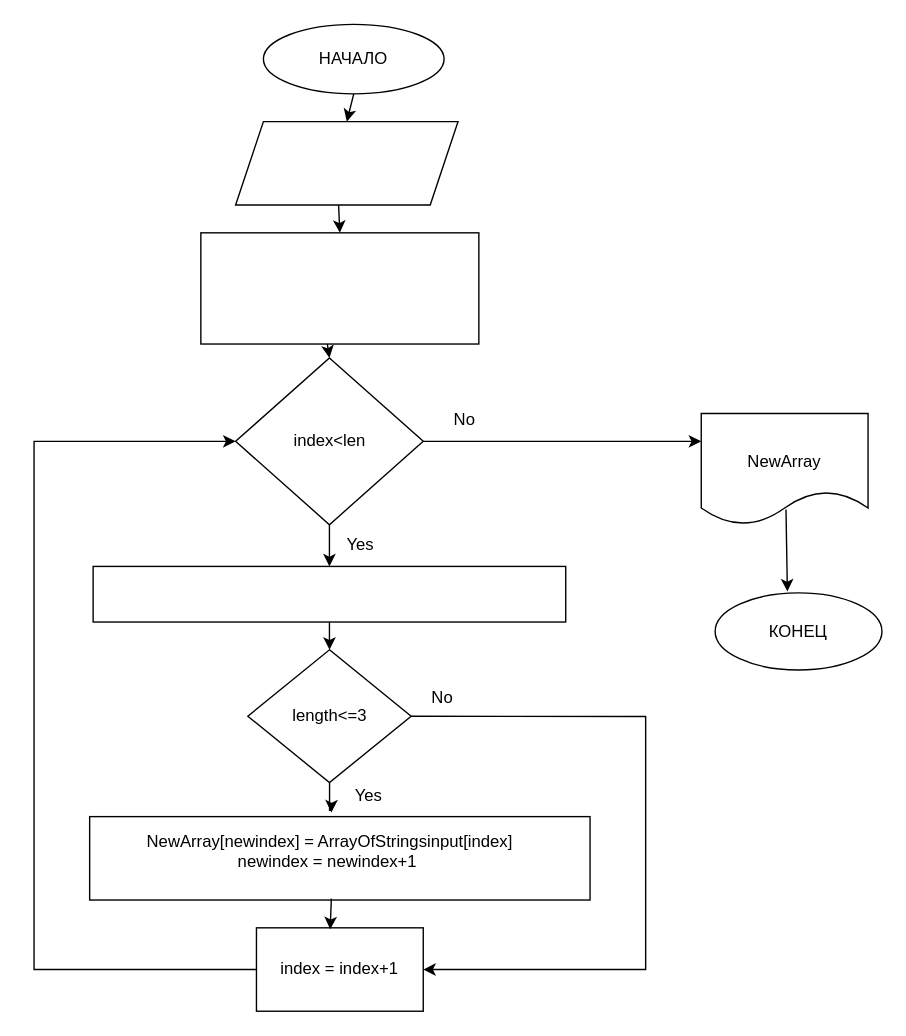
The diagram is 906 pixels wide and 1036 high, and some of its shapes have lost their labels. Here are the shapes that lost their labels. From the top down, the centre of each, then its label:
pixel 346 162: ArrayOfStringsInput
pixel 339 287: create NewArray index = 0 newindex = 0 len = Size(ArrayOfStringsInput)
pixel 329 593: length = Length(ArrayOfStringsInput[index])
